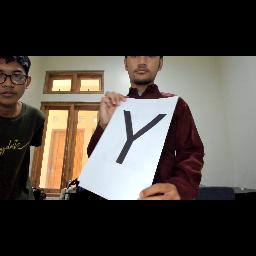y: (114, 108, 170, 168)
